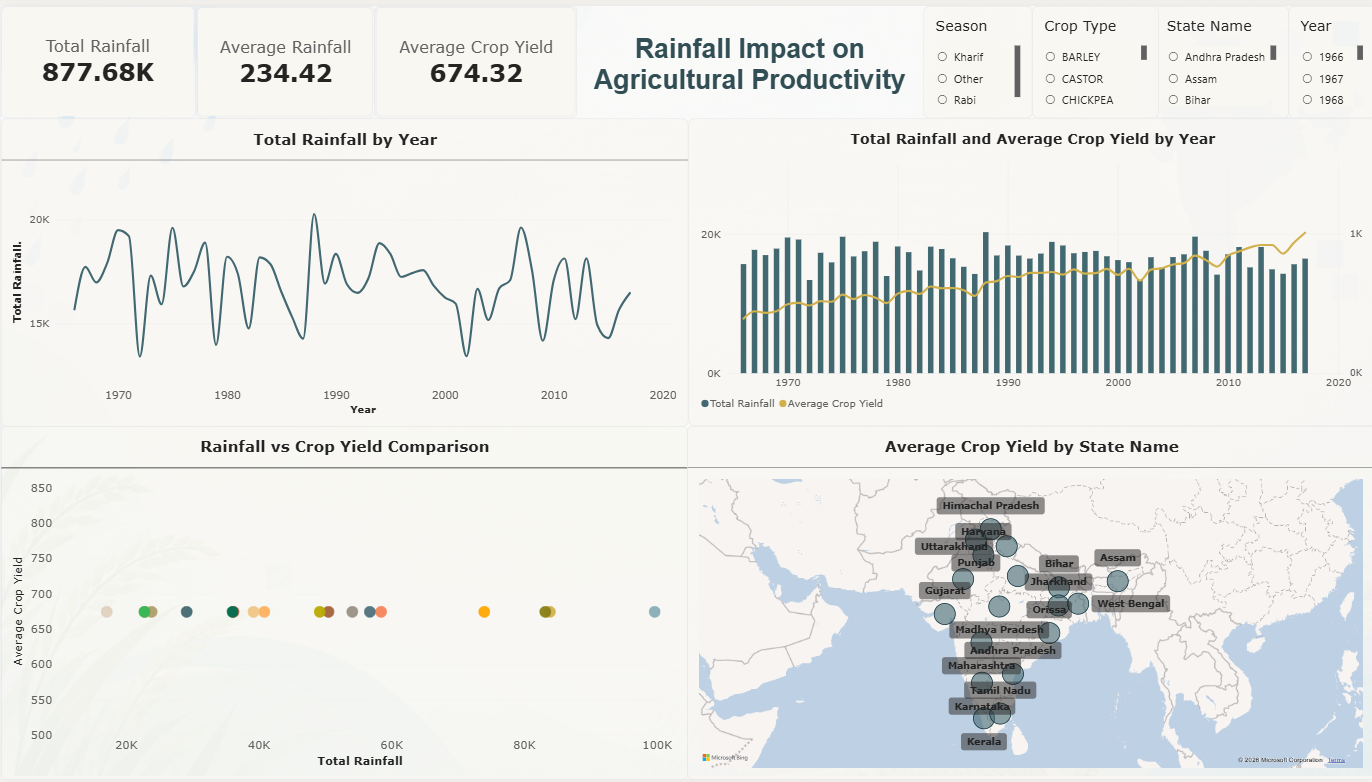

The page's visual inventory and layout, read from the dashboard file:
{"tool":"powerbi","page":{"name":"Dashboard","canvas":[1920,1080],"ordinal":0},"visuals":[{"type":"lineChart","title":"Total Rainfall by Year","fields":{"Y":["Rainfall_Data.Total Rainfall"],"Category":["Year_Table.Year"]},"box":[0,156.6,960.2,430.7],"z":0},{"type":"scatterChart","title":"Rainfall vs Crop Yield Comparison","fields":{"X":["Rainfall_Data.Total Rainfall"],"Y":["Crop_Yield.Average Crop Yield"],"Series":["Rainfall_Data.State Name"]},"box":[0,586,959.2,494],"z":1000},{"type":"map","fields":{"Category":["Rainfall_Data.State Name"],"Size":["Crop_Yield.Average Crop Yield"]},"box":[959.2,586,961.2,494],"z":2000},{"type":"listSlicer","fields":{"Values":["Year_Table.Year"]},"box":[1799,0,121.4,156.4],"z":3000},{"type":"listSlicer","fields":{"Values":["Crop_Data.State Name"]},"box":[1611.7,0,187.3,156.4],"z":4000},{"type":"listSlicer","fields":{"Values":["Crop_Yield.Season"]},"box":[1288.5,0,152.3,156.4],"z":5000},{"type":"listSlicer","fields":{"Values":["Crop_Yield.Crop Type"]},"box":[1440.8,0,177,156.4],"z":6000},{"type":"cardVisual","fields":{"Data":["Rainfall_Data.Total Rainfall"]},"box":[0,0,272,156.6],"z":7000},{"type":"cardVisual","fields":{"Data":["Rainfall_Data.Average Rainfall"]},"box":[272,0,249.3,156.6],"z":8000},{"type":"cardVisual","fields":{"Data":["Crop_Yield.Average Crop Yield"]},"box":[521.3,0,282.3,156.6],"z":9000},{"type":"lineClusteredColumnComboChart","fields":{"Category":["Year_Table.Year"],"Y":["Rainfall_Data.Total Rainfall"],"Y2":["Crop_Yield.Average Crop Yield"]},"box":[960.2,157.1,960.2,429.5],"z":10000},{"type":"textbox","box":[803.1,38.4,485.3,118.7],"z":10001}]}

Visuals, with their boxes in screenshot pixels (x1, y1, x2, y2), scaled from the page's 1920x1080 canvas onto the 1372x782 screenshot:
"Total Rainfall by Year" lineChart: {"left": 0, "top": 113, "right": 686, "bottom": 425}
"Rainfall vs Crop Yield Comparison" scatterChart: {"left": 0, "top": 424, "right": 685, "bottom": 781}
map - Rainfall_Data.State Name x Crop_Yield.Average Crop Yield: {"left": 685, "top": 424, "right": 1371, "bottom": 781}
listSlicer - Year_Table.Year: {"left": 1286, "top": 0, "right": 1371, "bottom": 113}
listSlicer - Crop_Data.State Name: {"left": 1152, "top": 0, "right": 1286, "bottom": 113}
listSlicer - Crop_Yield.Season: {"left": 921, "top": 0, "right": 1030, "bottom": 113}
listSlicer - Crop_Yield.Crop Type: {"left": 1030, "top": 0, "right": 1156, "bottom": 113}
cardVisual - Rainfall_Data.Total Rainfall: {"left": 0, "top": 0, "right": 194, "bottom": 113}
cardVisual - Rainfall_Data.Average Rainfall: {"left": 194, "top": 0, "right": 373, "bottom": 113}
cardVisual - Crop_Yield.Average Crop Yield: {"left": 373, "top": 0, "right": 574, "bottom": 113}
lineClusteredColumnComboChart - Year_Table.Year x Rainfall_Data.Total Rainfall: {"left": 686, "top": 114, "right": 1371, "bottom": 425}
textbox: {"left": 574, "top": 28, "right": 921, "bottom": 114}
